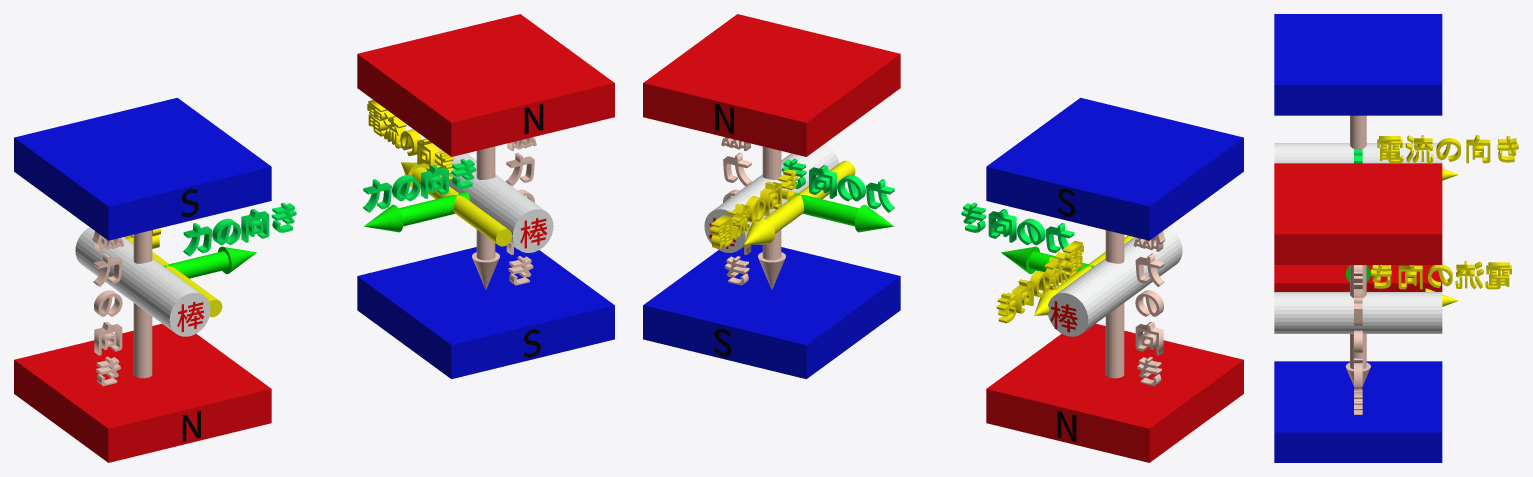
Rendered from Fleming's_left-hand_rule.glb.
The picture shows the model from 3 angles, left to right: view 1: azimuth 30°, elevation 25°; view 2: azimuth 150°, elevation 25°; view 3: azimuth 270°, elevation 25°; orthographic projection. The views are drawn at different scales.
Parts seen in each view (by area): view 1: Cube.001, Cube.003, Cube.002, Cube, 円柱, 円柱.001, 磁力の向き, 力の向き, 力の向き.001, 電流の向き.001, 磁力, 磁力の向き.001 (+6 smaller); view 2: Cube.001, Cube.003, Cube.002, Cube, 円柱, 磁力の向き, 電流の向き, 電流の向き.001, 力の向き, 円柱.001, 力の向き.001, 磁力 (+6 smaller); view 3: Cube.001, Cube.003, Cube.002, 円柱.001, Cube, 円柱, 電流の向き, 電流の向き.001, 磁力の向き.001, 磁力.001, 磁力.
Boxes of the visible parts, box(x1,y1,x2,y2) form: Cube.001: box(14, 97, 271, 240); Cube.003: box(357, 14, 614, 156); Cube.002: box(357, 243, 614, 379); Cube: box(14, 323, 271, 462); 円柱: box(75, 227, 210, 336); 円柱.001: box(428, 143, 553, 252); 磁力の向き: box(92, 231, 124, 386); 力の向き: box(183, 202, 296, 256); 力の向き.001: box(363, 159, 476, 212); 電流の向き.001: box(367, 100, 453, 180); 磁力: box(133, 230, 152, 378); 磁力の向き.001: box(505, 137, 536, 285); Cube.001: box(986, 97, 1243, 240); Cube.003: box(643, 14, 900, 156); Cube.002: box(643, 244, 900, 379); Cube: box(986, 323, 1243, 462); 円柱: box(1048, 227, 1182, 336); 磁力の向き: box(1133, 231, 1165, 386); 電流の向き: box(996, 240, 1083, 323); 電流の向き.001: box(710, 169, 797, 248); 力の向き: box(961, 202, 1074, 253); 円柱.001: box(704, 143, 839, 252); 力の向き.001: box(781, 159, 894, 212); 磁力: box(1105, 230, 1124, 378); Cube.001: box(1274, 14, 1442, 115); Cube.003: box(1274, 163, 1442, 264); Cube.002: box(1274, 361, 1442, 462); 円柱.001: box(1274, 292, 1442, 333); Cube: box(1274, 265, 1442, 291); 円柱: box(1274, 143, 1442, 163); 電流の向き: box(1377, 135, 1518, 163); 電流の向き.001: box(1370, 261, 1511, 289); 磁力の向き.001: box(1354, 265, 1362, 414); 磁力.001: box(1350, 265, 1366, 369); 磁力: box(1350, 115, 1366, 148).
Size of the model in its own units: 6.2 by 3 by 2.93.
